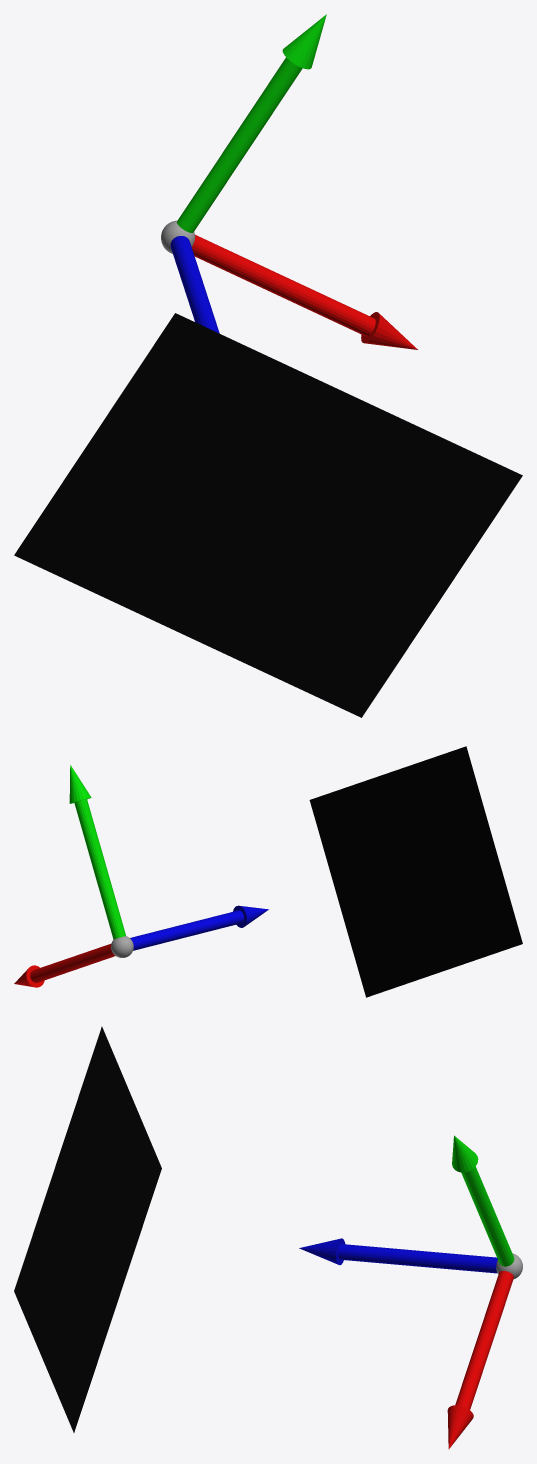
The picture shows the model from 3 angles, top to bottom: view 1: azimuth 30°, elevation 25°; view 2: azimuth 150°, elevation 25°; view 3: azimuth 270°, elevation 25°; orthographic projection. The views are drawn at different scales.
Size of the model in its own units: 0.2954 by 0.2302 by 0.2813.
